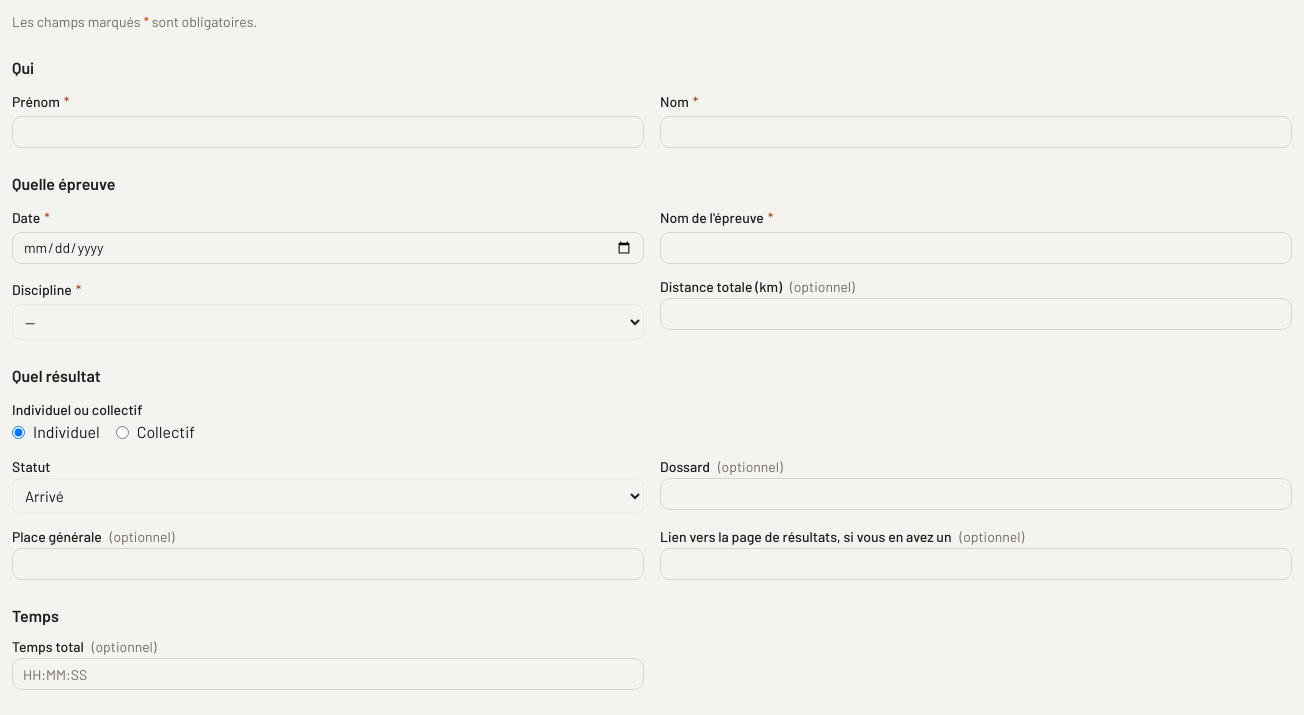
ManualResultForm — taxonomie FFTri et format (US3) › Triathlon fait apparaître le choix de format
Check: the field labelled "Format" is not shown
Select "Triathlon" in the dropdown labelled "Discipline" at (328, 322), box [12,304,644,340]
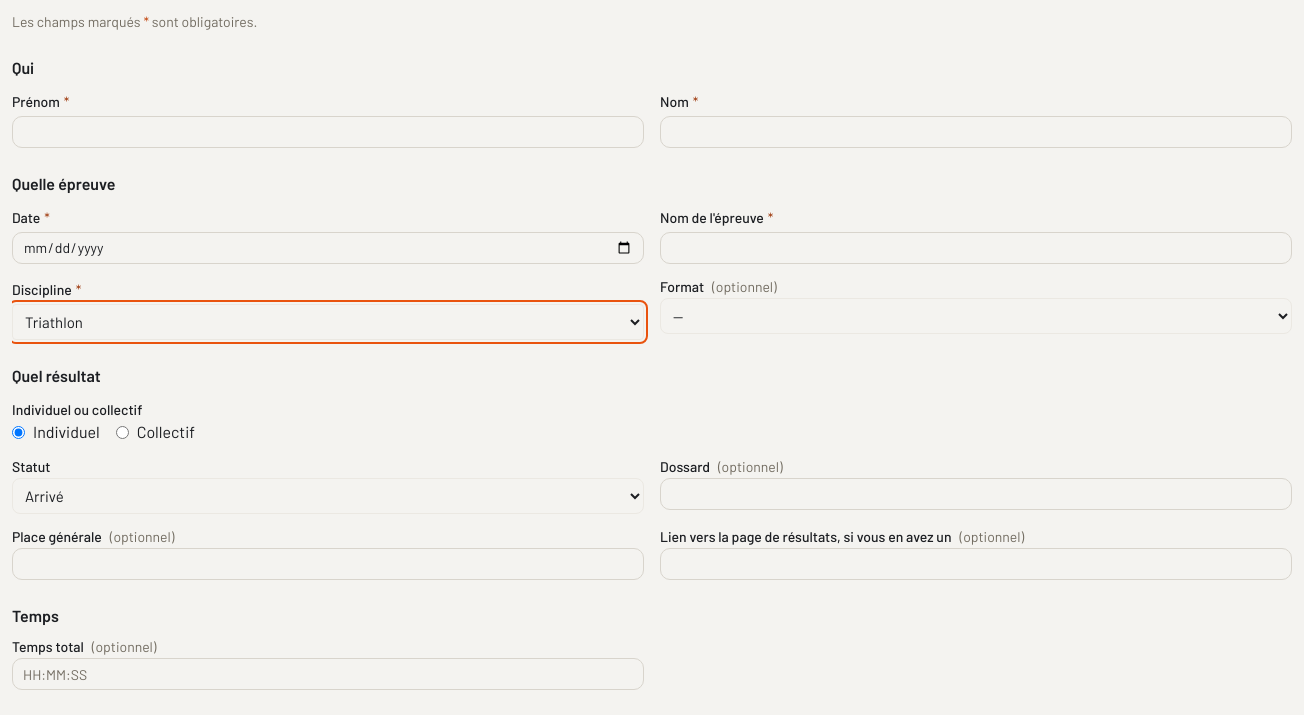
Check: the dropdown labelled "Format (optionnel)" is shown, box [660,298,1292,334]
